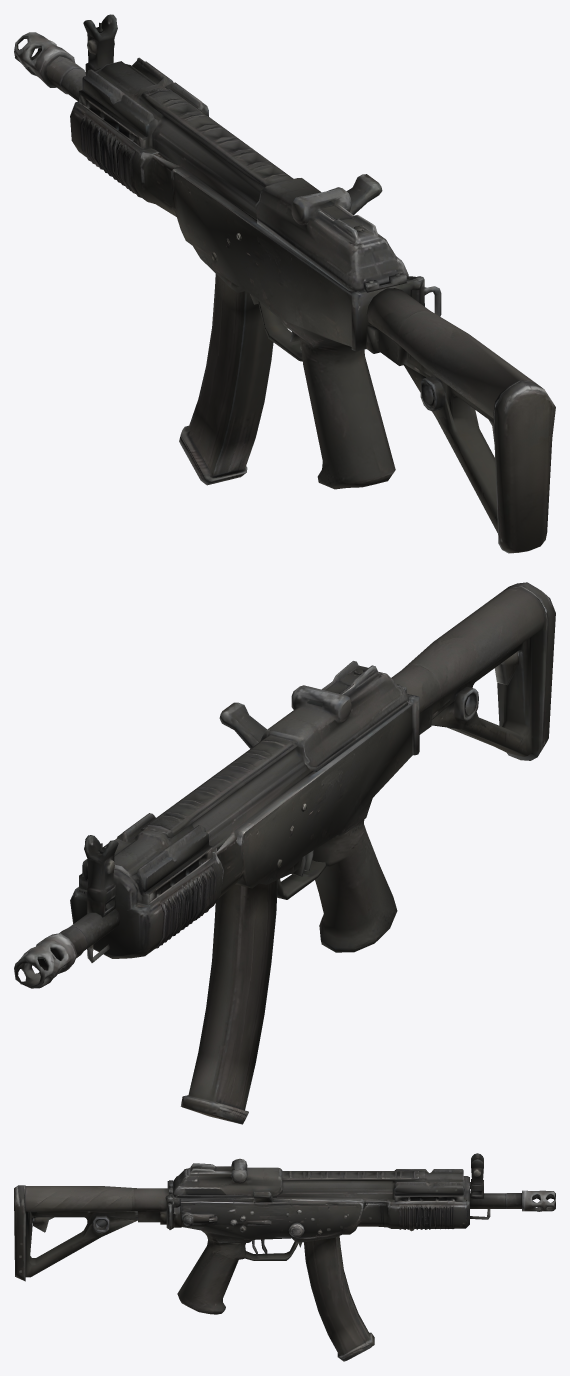
3 views of the same model, one above another, from view 1: azimuth 30°, elevation 25°; view 2: azimuth 150°, elevation 25°; view 3: azimuth 270°, elevation 25° (orthographic). The views are drawn at different scales.
Parts seen in each view (by area): view 1: tripo_node_5d1ecddc-508c-433a-8997-bda1e7156aba; view 2: tripo_node_5d1ecddc-508c-433a-8997-bda1e7156aba; view 3: tripo_node_5d1ecddc-508c-433a-8997-bda1e7156aba.
Part boxes in pixels (box(x1,y1,x2,y2)): tripo_node_5d1ecddc-508c-433a-8997-bda1e7156aba: box(14, 14, 555, 553); tripo_node_5d1ecddc-508c-433a-8997-bda1e7156aba: box(14, 582, 555, 1124); tripo_node_5d1ecddc-508c-433a-8997-bda1e7156aba: box(14, 1153, 555, 1361).
Bounding box in the file's own units: 0.2476 × 0.75 × 1.83.
1 material, 1 textured.
